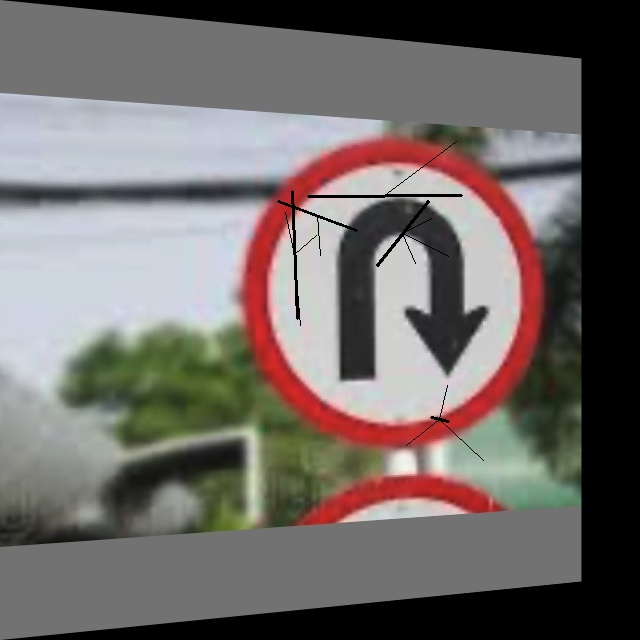U_Turn_Ahead: (247, 141, 541, 436)
